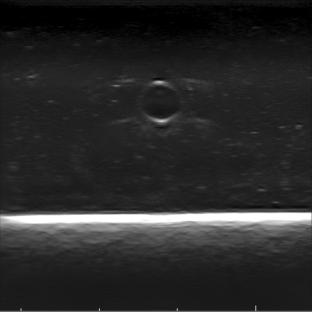vessel: (136, 79, 185, 127)
